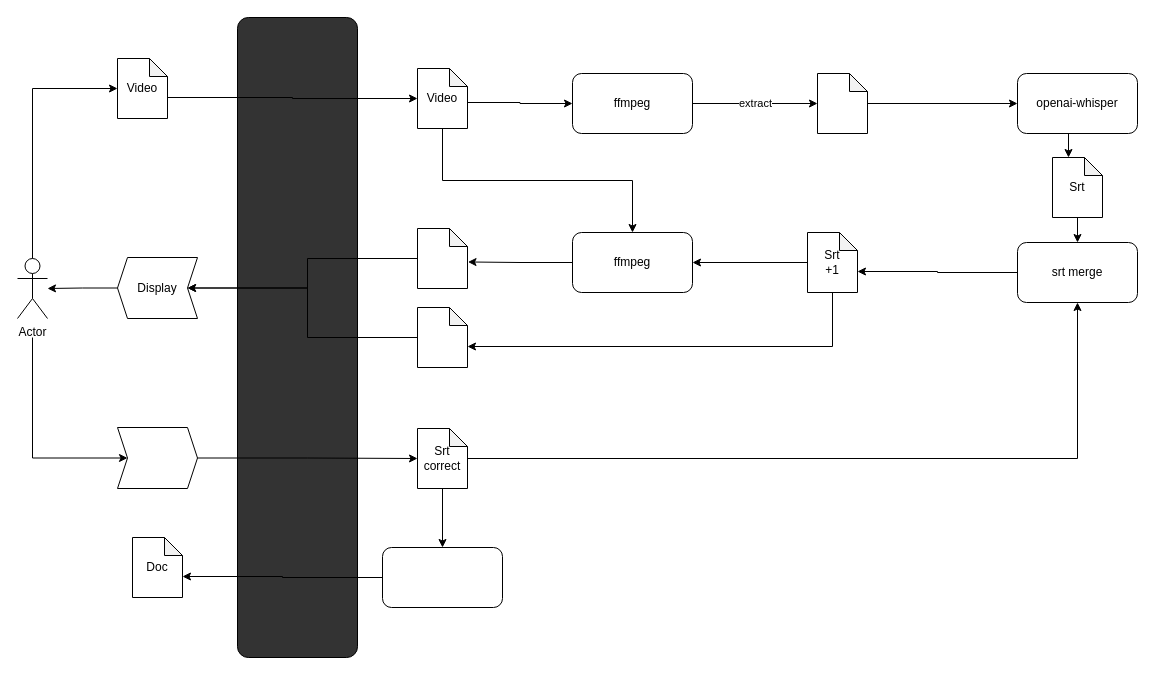
The diagram is 1155 pixels wide and 675 high, and some of its shapes have lost their labels. Here are the shapes that lost their labels. From the top down, the centre of each, then its label:
At pixel 842 103: "Audio".
At pixel 442 258: "Video subtitled".
At pixel 297 337: "GUI".
At pixel 442 337: "Srt to review".
At pixel 157 457: "Correct".
At pixel 442 577: "templating".
